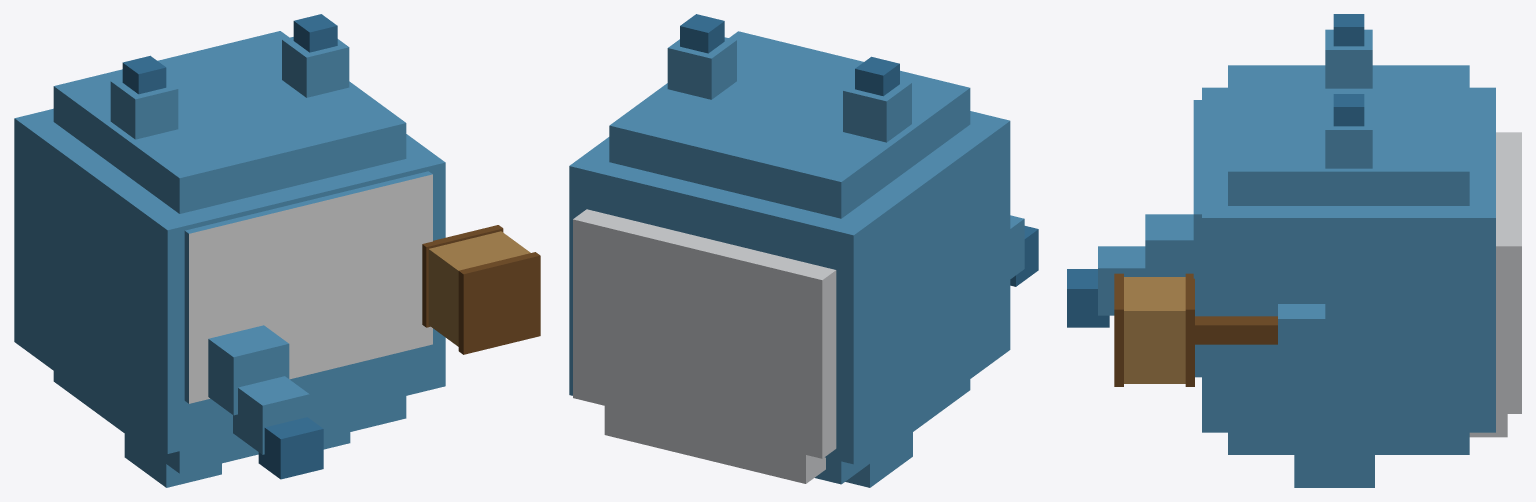
File: yumemin.glb
3 views of the same model, side by side, from view 1: azimuth 30°, elevation 25°; view 2: azimuth 150°, elevation 25°; view 3: azimuth 270°, elevation 25° (orthographic). The views are drawn at different scales.
Visible parts, largest first — view 1: YumeminVoxel_Root_MobileMesh, VoxelRig_ArmPrimary_MobileMesh, VoxelRig_Locomotion_00_MobileMesh; view 2: YumeminVoxel_Root_MobileMesh, VoxelRig_Locomotion_00_MobileMesh; view 3: YumeminVoxel_Root_MobileMesh, VoxelRig_ArmPrimary_MobileMesh, VoxelRig_Locomotion_00_MobileMesh.
Part boxes in pixels (box(x1,y1,x2,y2)): YumeminVoxel_Root_MobileMesh: box(14, 14, 445, 487); VoxelRig_ArmPrimary_MobileMesh: box(422, 225, 540, 354); VoxelRig_Locomotion_00_MobileMesh: box(208, 325, 323, 479); YumeminVoxel_Root_MobileMesh: box(569, 14, 1010, 487); VoxelRig_Locomotion_00_MobileMesh: box(1010, 215, 1038, 286); YumeminVoxel_Root_MobileMesh: box(1193, 14, 1521, 487); VoxelRig_ArmPrimary_MobileMesh: box(1114, 273, 1325, 386); VoxelRig_Locomotion_00_MobileMesh: box(1067, 214, 1193, 327).
Bounding box in the file's own units: 1.53 × 1.79 × 1.92.
